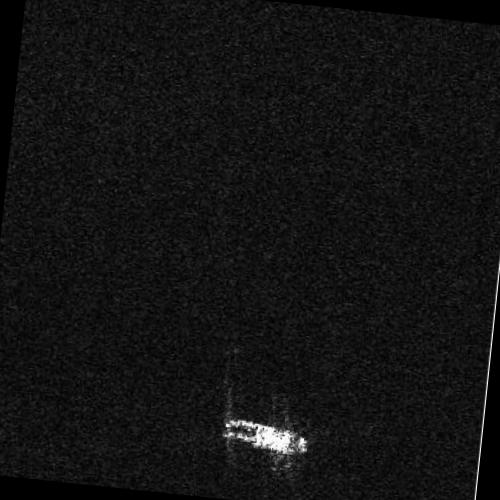ship: (223, 419, 308, 457)
